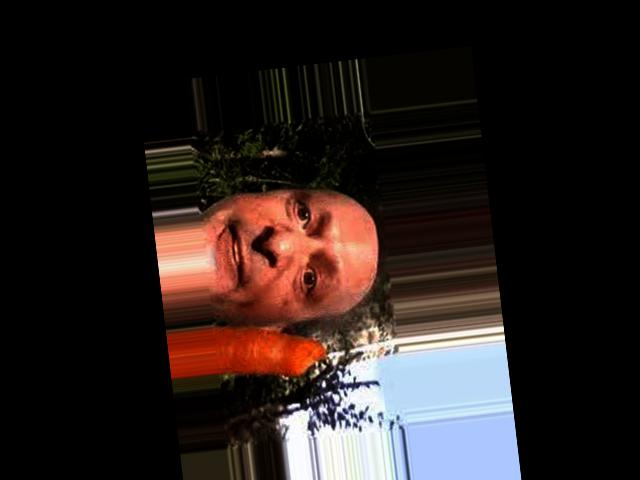carrot: (210, 314, 331, 388)
